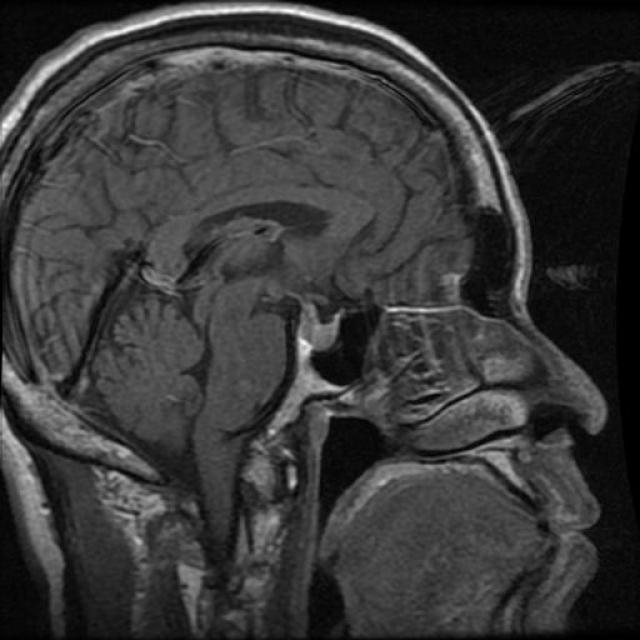pituitary: (274, 290, 358, 426)
